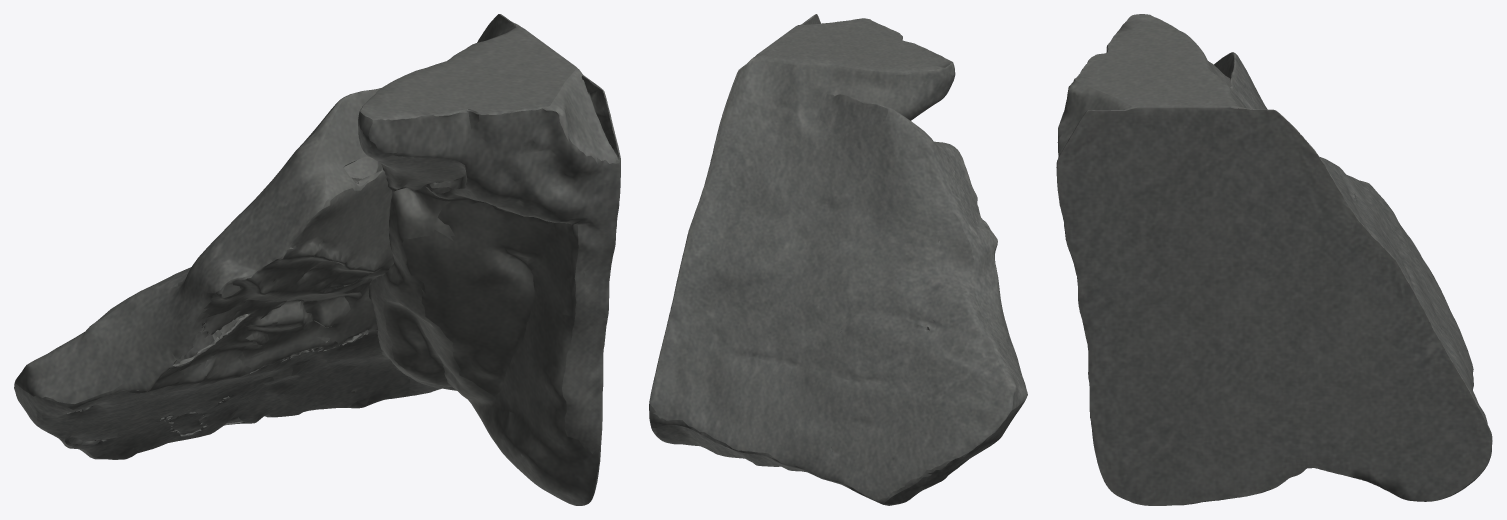
3 renders of one model, left to right at view 1: azimuth 30°, elevation 25°; view 2: azimuth 150°, elevation 25°; view 3: azimuth 270°, elevation 25°, orthographic. The views are drawn at different scales.
Visible parts, largest first — view 1: world; view 2: world; view 3: world.
Part boxes in pixels (x1,y1,x2,y2): world: (14, 14, 620, 505); world: (649, 14, 1027, 505); world: (1056, 14, 1492, 505).
Bounding box in the file's own units: 0.35 × 0.3495 × 0.3437.
1 material, 1 textured.
